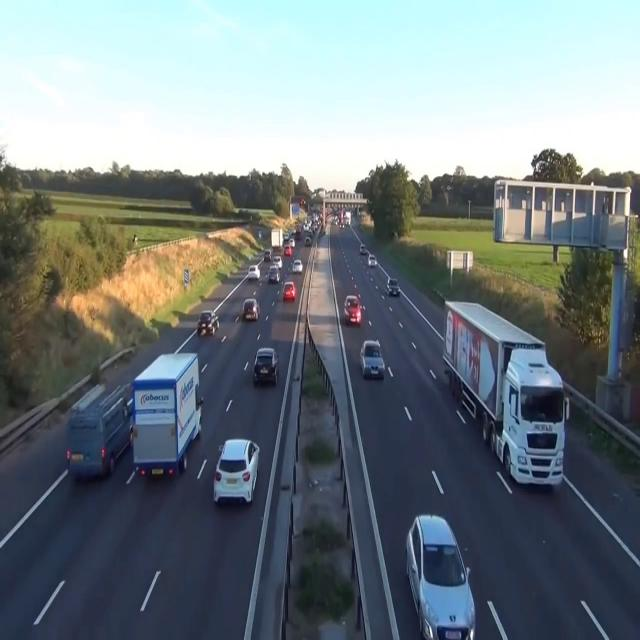belum terisi: (438, 276, 574, 520), (399, 491, 482, 640), (127, 342, 204, 483), (55, 370, 132, 483), (209, 418, 268, 520), (252, 332, 283, 395), (358, 330, 386, 384), (196, 302, 222, 347), (338, 290, 364, 330), (379, 271, 406, 302), (235, 294, 262, 324), (280, 274, 298, 307)
